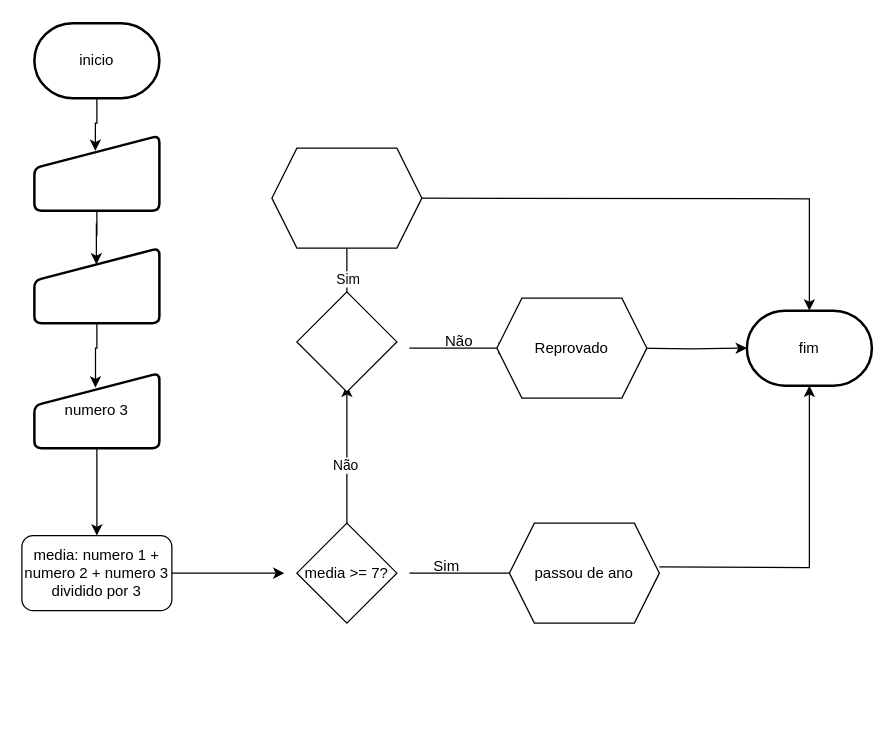
Image size: 895x730. Some labels were removed from this diagram. Each missing label, with the centre of its shape:
Média >=5 e <7?: the point at 346,341
numero 1: the point at 96,172
numero 2: the point at 96,285
Recuperação: the point at 346,197
